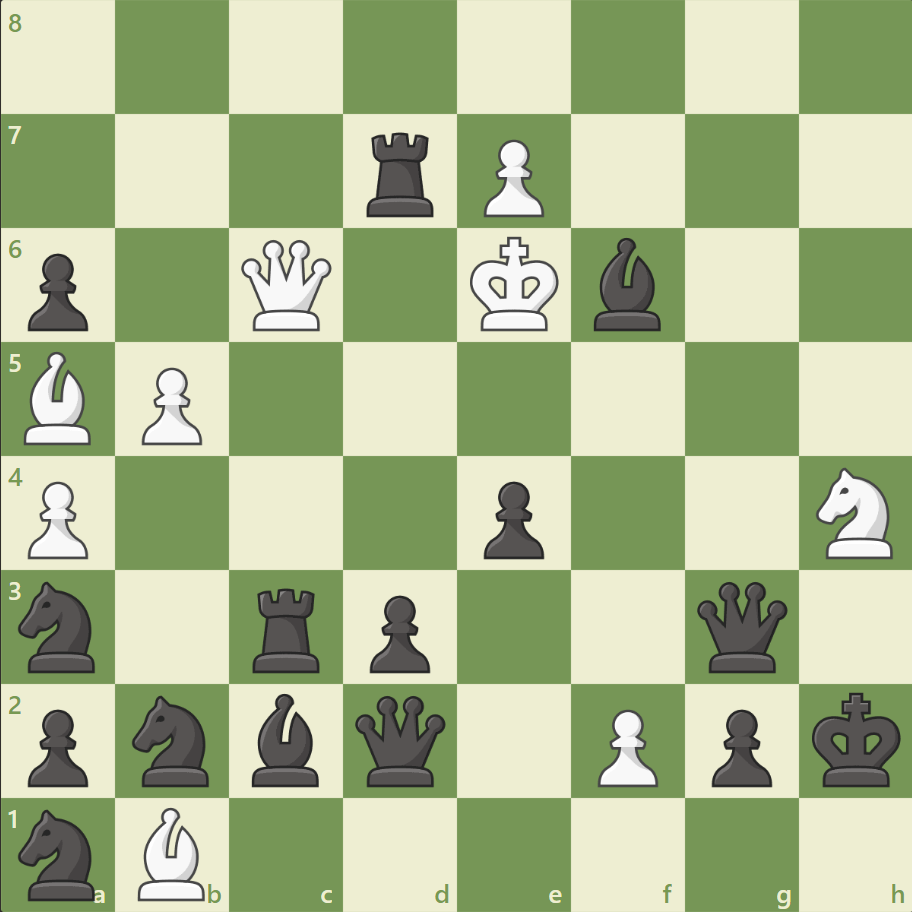B: (131, 801, 215, 904), (17, 347, 101, 449)
K: (465, 231, 565, 339)
N: (806, 461, 903, 564)
P: (474, 132, 549, 223), (133, 359, 208, 450), (20, 473, 95, 564), (588, 700, 662, 791)
Q: (237, 236, 336, 335)
b: (585, 233, 669, 336), (244, 687, 328, 790)
k: (806, 685, 906, 793)
n: (124, 688, 222, 791), (11, 575, 108, 677), (11, 802, 108, 904)
p: (20, 246, 95, 337), (474, 473, 549, 564), (20, 700, 95, 791), (701, 700, 776, 791), (361, 586, 435, 677)
q: (691, 576, 790, 676), (351, 690, 450, 789)
r: (246, 579, 329, 676), (360, 125, 442, 222)
